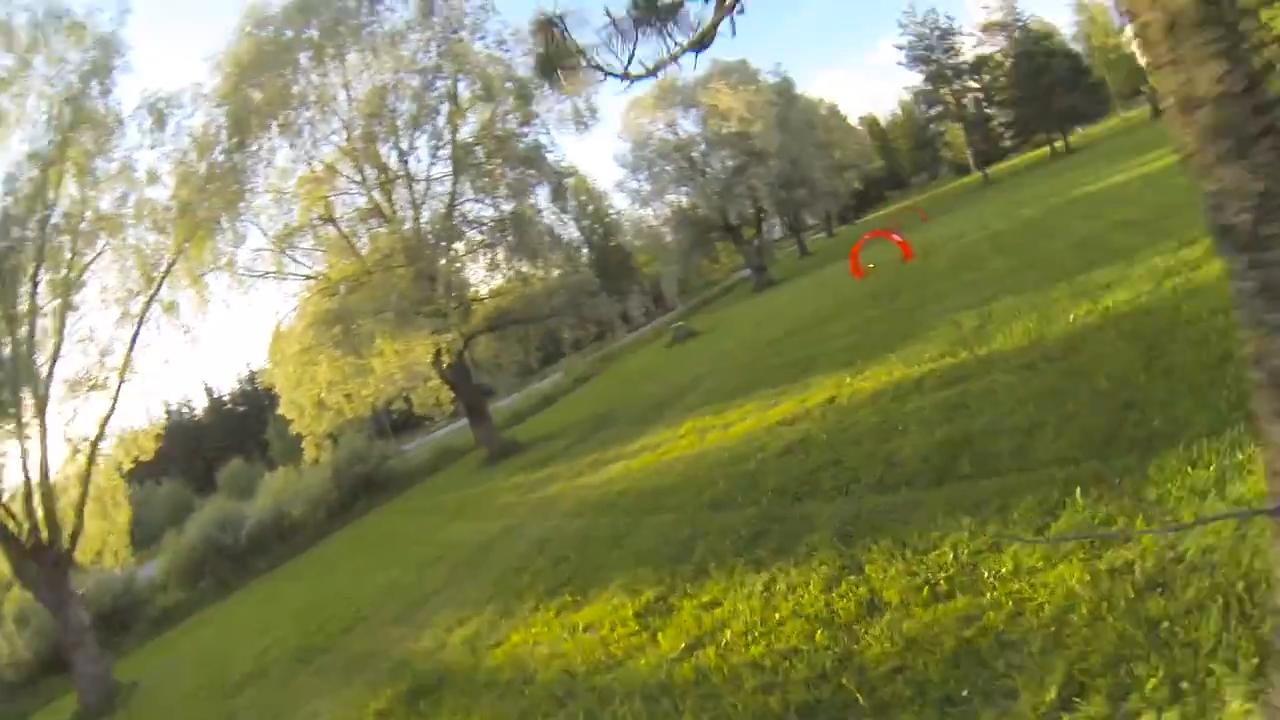gate: (847, 228, 914, 282)
